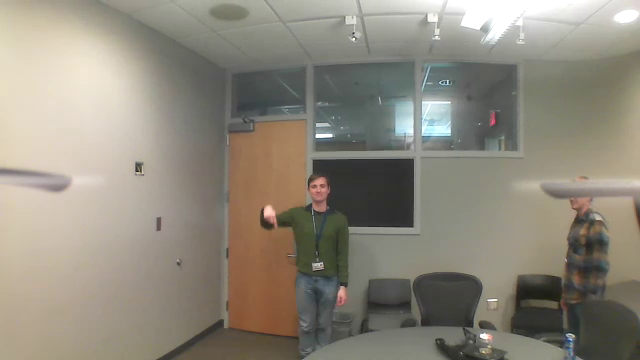down: (260, 200, 283, 231)
